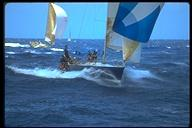sailboat: (56, 3, 164, 82), (24, 3, 72, 53)
sky: (6, 4, 44, 38)
water: (6, 83, 188, 125)
